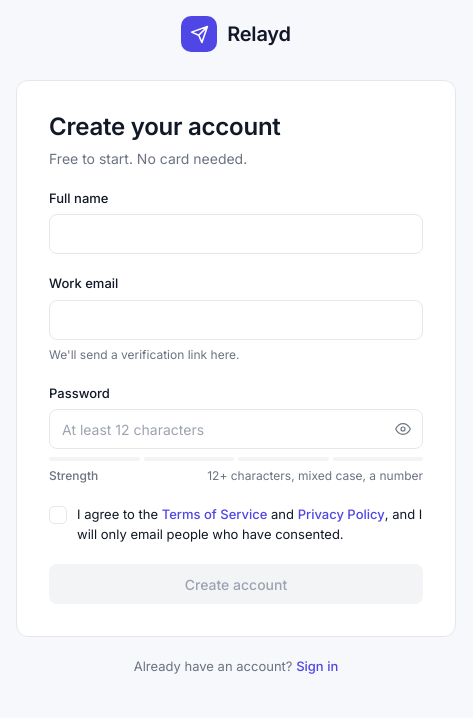
B2 Create your account › unlocks only when the password is strong and the terms are accepted
Expected: the heading "Create your account" is shown, [49,112,281,141]
Type "Northwind-2026!" into the password field labelled "Password". click: (236, 429)
box: [49,409,423,449]
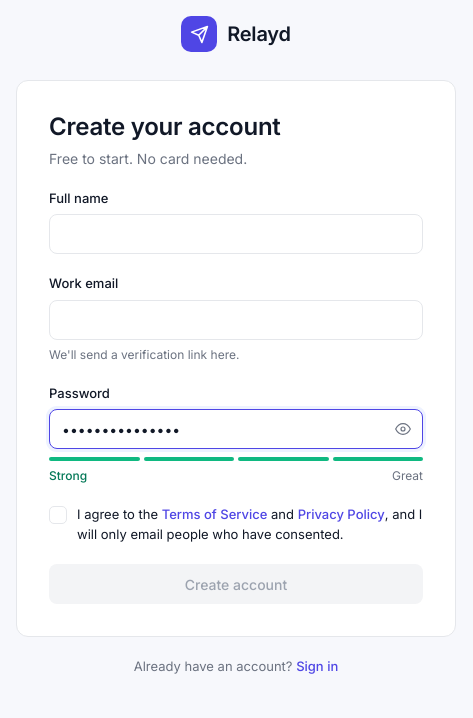
Expected: the button "Create account" is disabled, [49,564,423,604]
Click the checkbox. click: click(236, 525)
box: [49,505,423,544]
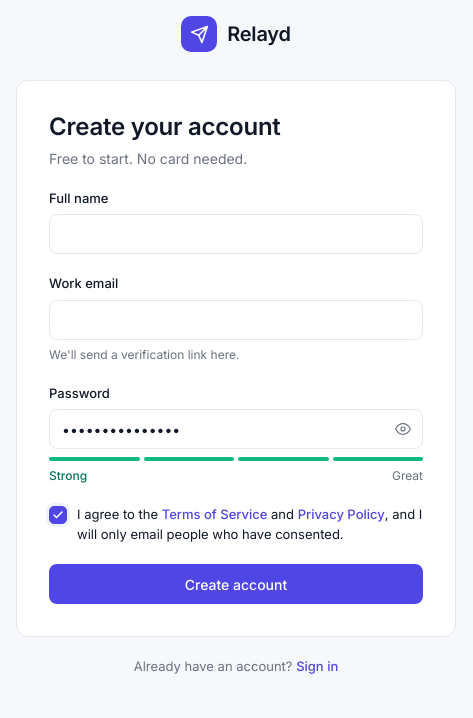
Now the button "Create account" is enabled, box [49,564,423,604]
